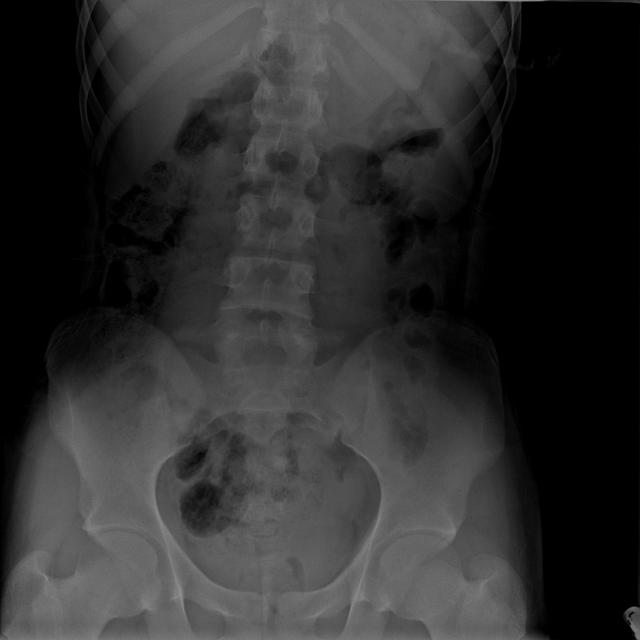normal-left: (378, 534, 527, 640)
normal-right: (1, 531, 160, 640)
